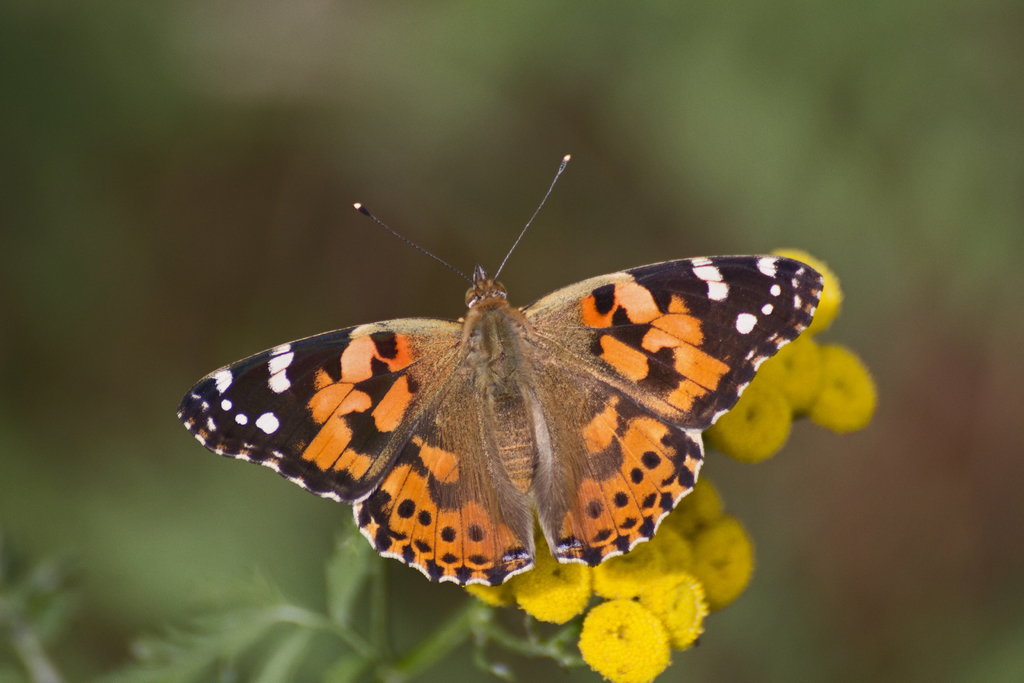Butterfly: (159, 176, 852, 596)
